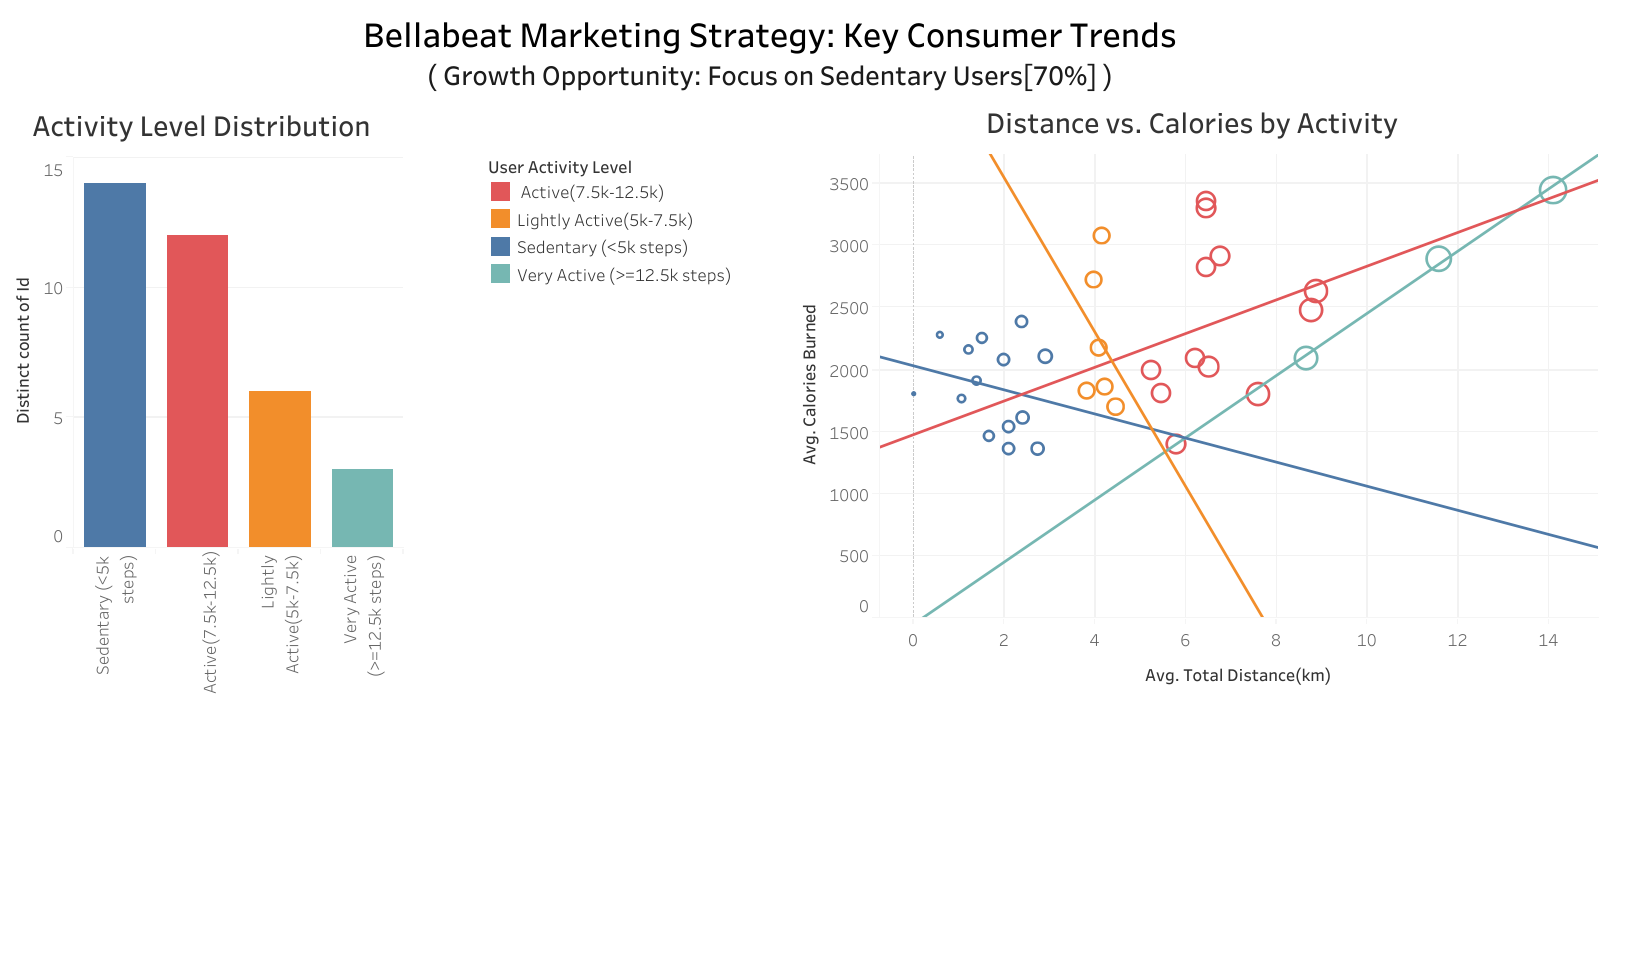

Layout of this report page (visuals, bound fields, positions):
{"tool":"tableau","page":{"name":"Bellabeat Marketing Trends","canvas":[1200,700],"ordinal":0},"visuals":[{"type":"text","box":[205,6,710,63]},{"type":"worksheet","title":"Calories vs. Distance","mark":"Automatic","rows":["Calories"],"cols":["TotalDistance"],"box":[571,68,592,439]},{"type":"legend","title":"Activity Distribution","param":"[federated.1y9xj441wogbqy1bik6q51ahw8ve].[none:Calculation_1125961440551686:nk]","box":[354,110,186,121]}]}

Visuals, with their boxes in screenshot pixels (x1, y1, x2, y2), scaled from the page's 1200x700 canvas onto the 1649x961 screenshot:
text: locate(282, 8, 1257, 95)
"Calories vs. Distance" worksheet: locate(785, 93, 1598, 696)
"Activity Distribution" legend: locate(486, 151, 742, 317)
